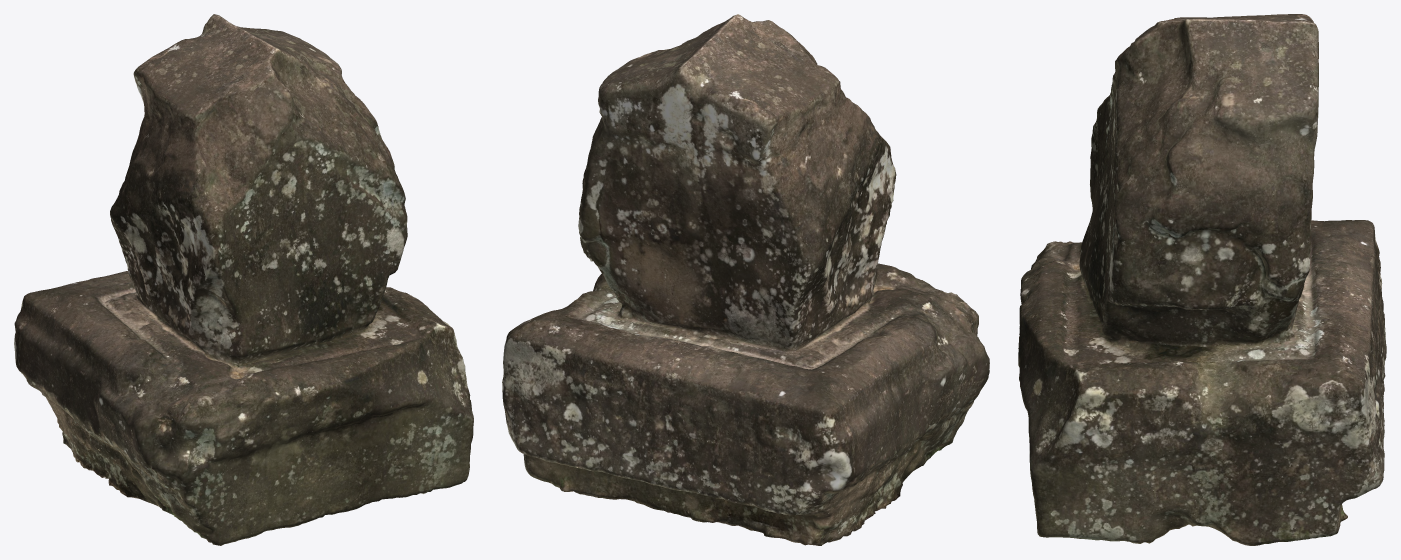
Rendered from 23_MysonSanctuaryD_Detru_final.glb.
3 views of the same model, side by side, from view 1: azimuth 30°, elevation 25°; view 2: azimuth 150°, elevation 25°; view 3: azimuth 270°, elevation 25° (orthographic). The views are drawn at different scales.
Bounding box in the file's own units: 0.922 × 1.13 × 0.8235.
Materials: 1 (1 with a texture image).
